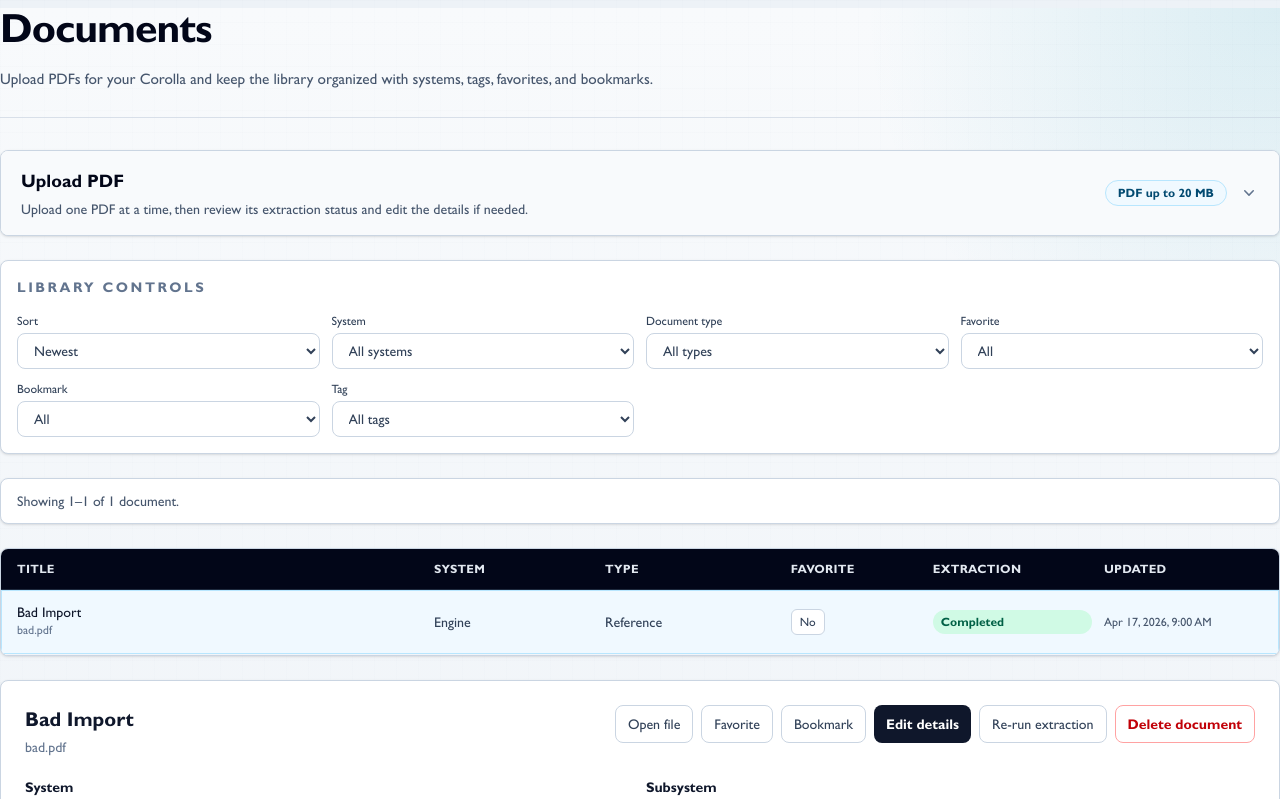
Test case: DocumentsPage confirms before deleting and removes document after success
Click the button "Delete document": {"x": 1185, "y": 724} 1115,705 -> 1255,743
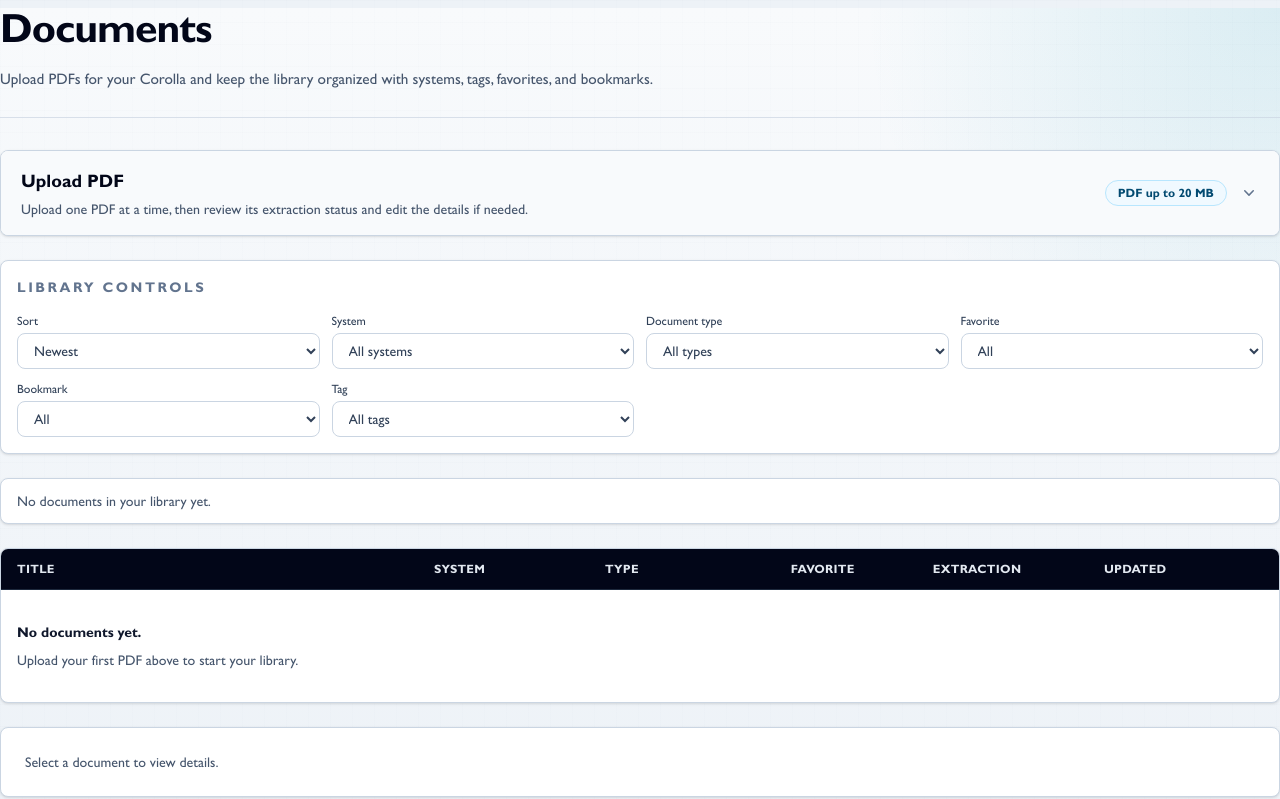
Now the text "No documents yet." is shown, box 17,624 -> 141,640
Now the text "Upload your first PDF above to start your library." is shown, box 17,652 -> 298,668
